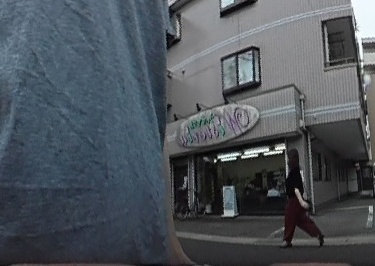person: (277, 148, 325, 250)
